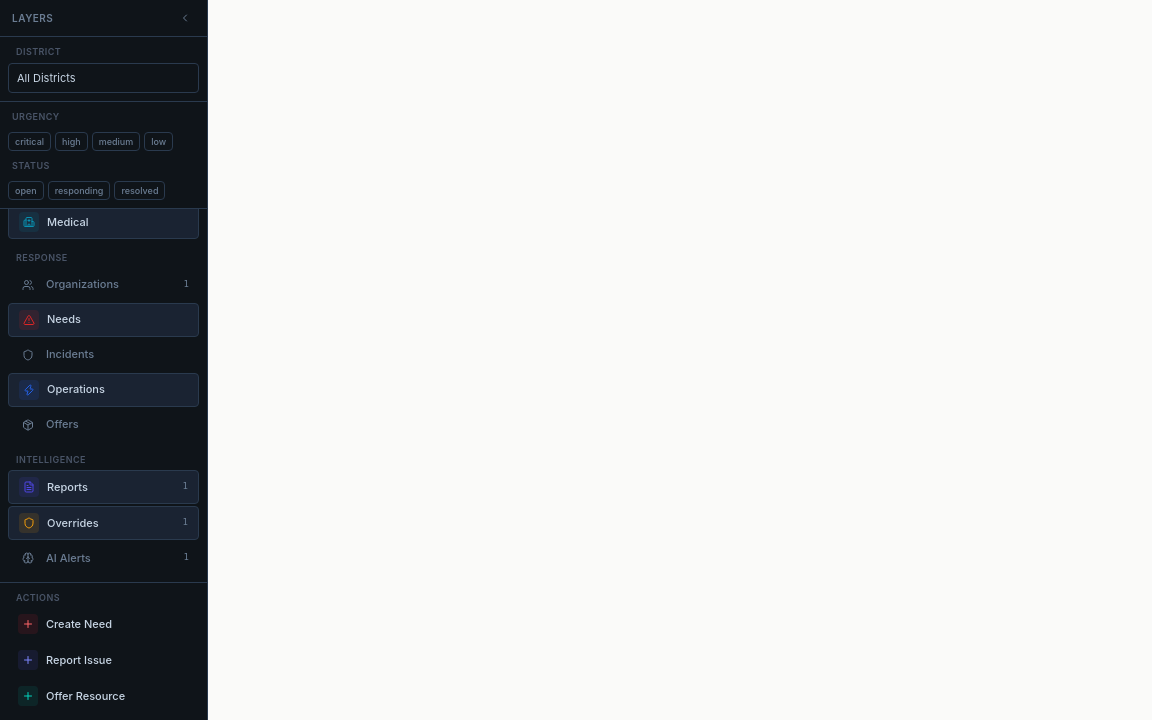
Test case: ReliefOS Operational Map Controls UI/UX Verification › 4. Reports toggle opens Field Reports list context panel
(page scrolled)
Click the button with test id "layer-fieldReports" at (104, 487), box x1=8 y1=470 x2=199 y2=504
Wait 200 ms
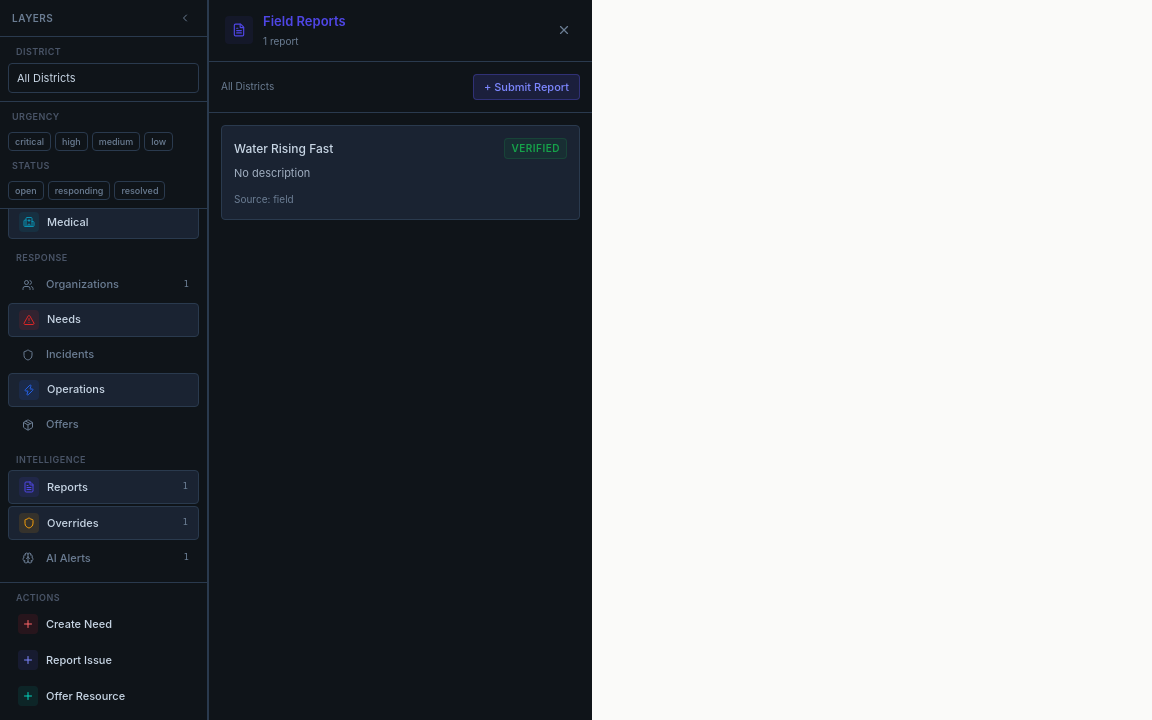
Expected: the heading "Field Reports" is shown, x1=263 y1=12 x2=346 y2=32
Expected: the text "Water Rising Fast" is shown, x1=234 y1=140 x2=333 y2=158
